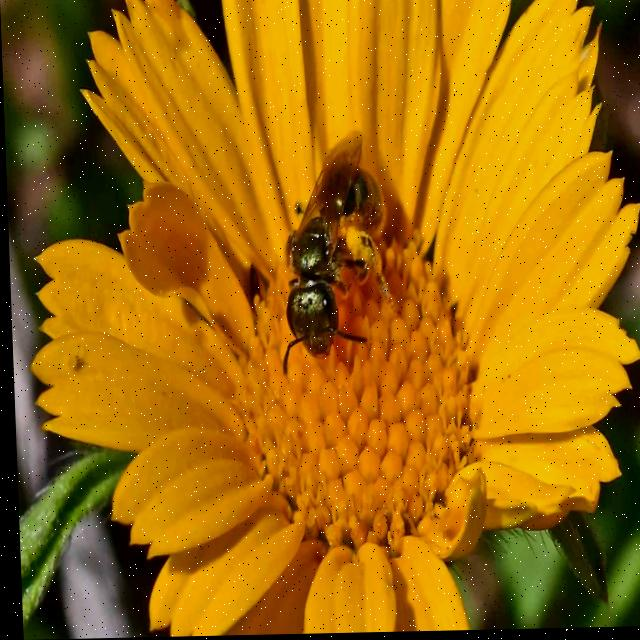Seladonia: (259, 124, 406, 392)
